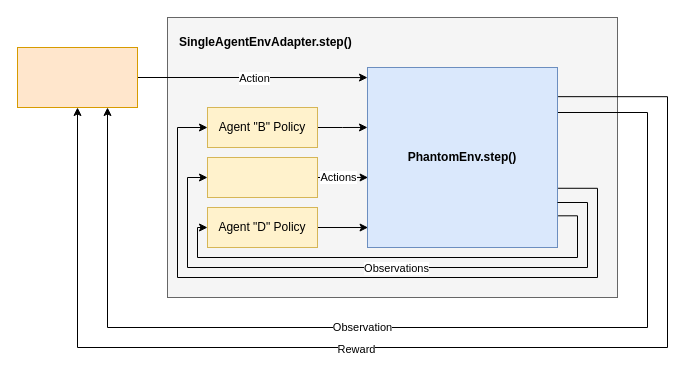
Image size: 693x373. Some labels were removed from this diagram. Each missing label, with the centre of its shape:
Agent "A" Policy: point 77,77
Agent "C" Policy: point 262,177
